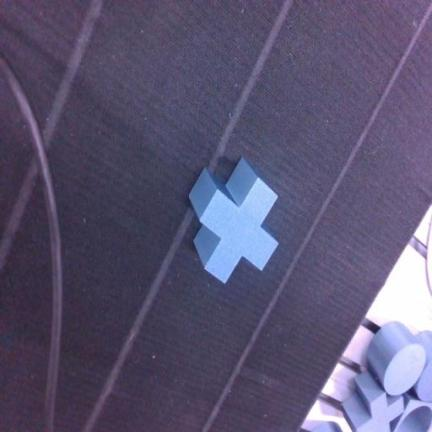cross: (189, 158, 277, 282), (343, 373, 404, 431)
